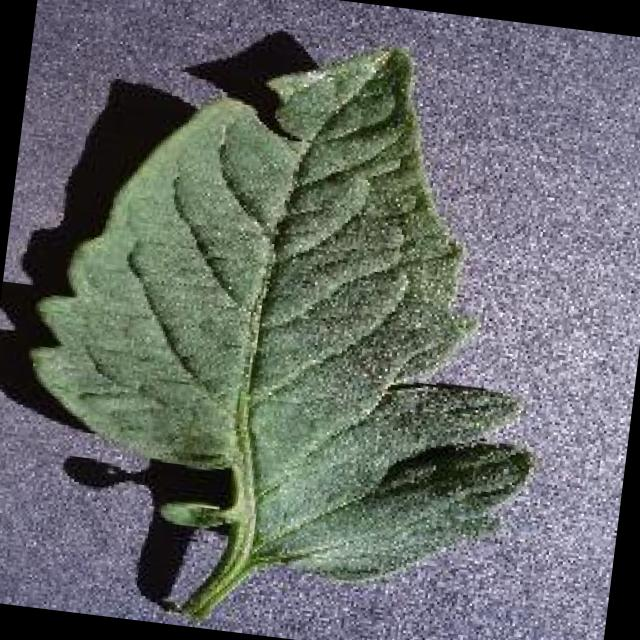Tomato_Healthy: (0, 8, 590, 594)
